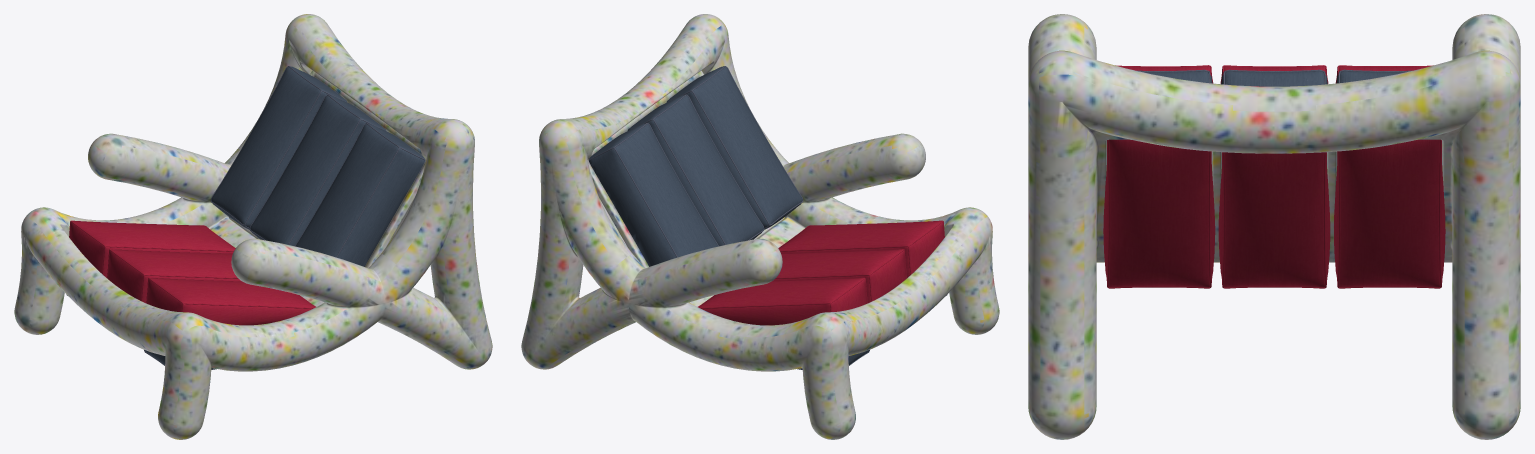
The model's file is chair.glb.
3 views of the same model, side by side, from view 1: azimuth 30°, elevation 25°; view 2: azimuth 150°, elevation 25°; view 3: azimuth 270°, elevation 25° (orthographic). The views are drawn at different scales.
Parts seen in each view (by area): view 1: new chair 5.001, Cube.008, cushion_angle_1.004, frame.002, cushion_1.001; view 2: new chair 5.001, Cube.008, cushion_angle_1.004, frame.002, cushion_1.001; view 3: new chair 5.001, cushion_angle_1.004, cushion_angle_1.011, Cube.008, cushion_1.001.
Part boxes in pixels (x1,y1,x2,y2): new chair 5.001: (14,14,492,439); Cube.008: (66,66,424,369); cushion_angle_1.004: (69,220,315,325); frame.002: (229,70,425,267); cushion_1.001: (144,66,425,369); new chair 5.001: (521,14,999,439); Cube.008: (589,66,869,369); cushion_angle_1.004: (698,220,944,325); frame.002: (588,70,784,267); cushion_1.001: (589,66,947,295); new chair 5.001: (1028,14,1520,439); cushion_angle_1.004: (1103,65,1445,288); cushion_angle_1.011: (1218,152,1330,287); Cube.008: (1142,71,1406,86); cushion_1.001: (1137,69,1411,84).
Size of the model in its own units: 1.04 by 0.7586 by 0.9144.
5 materials, 5 textured.
